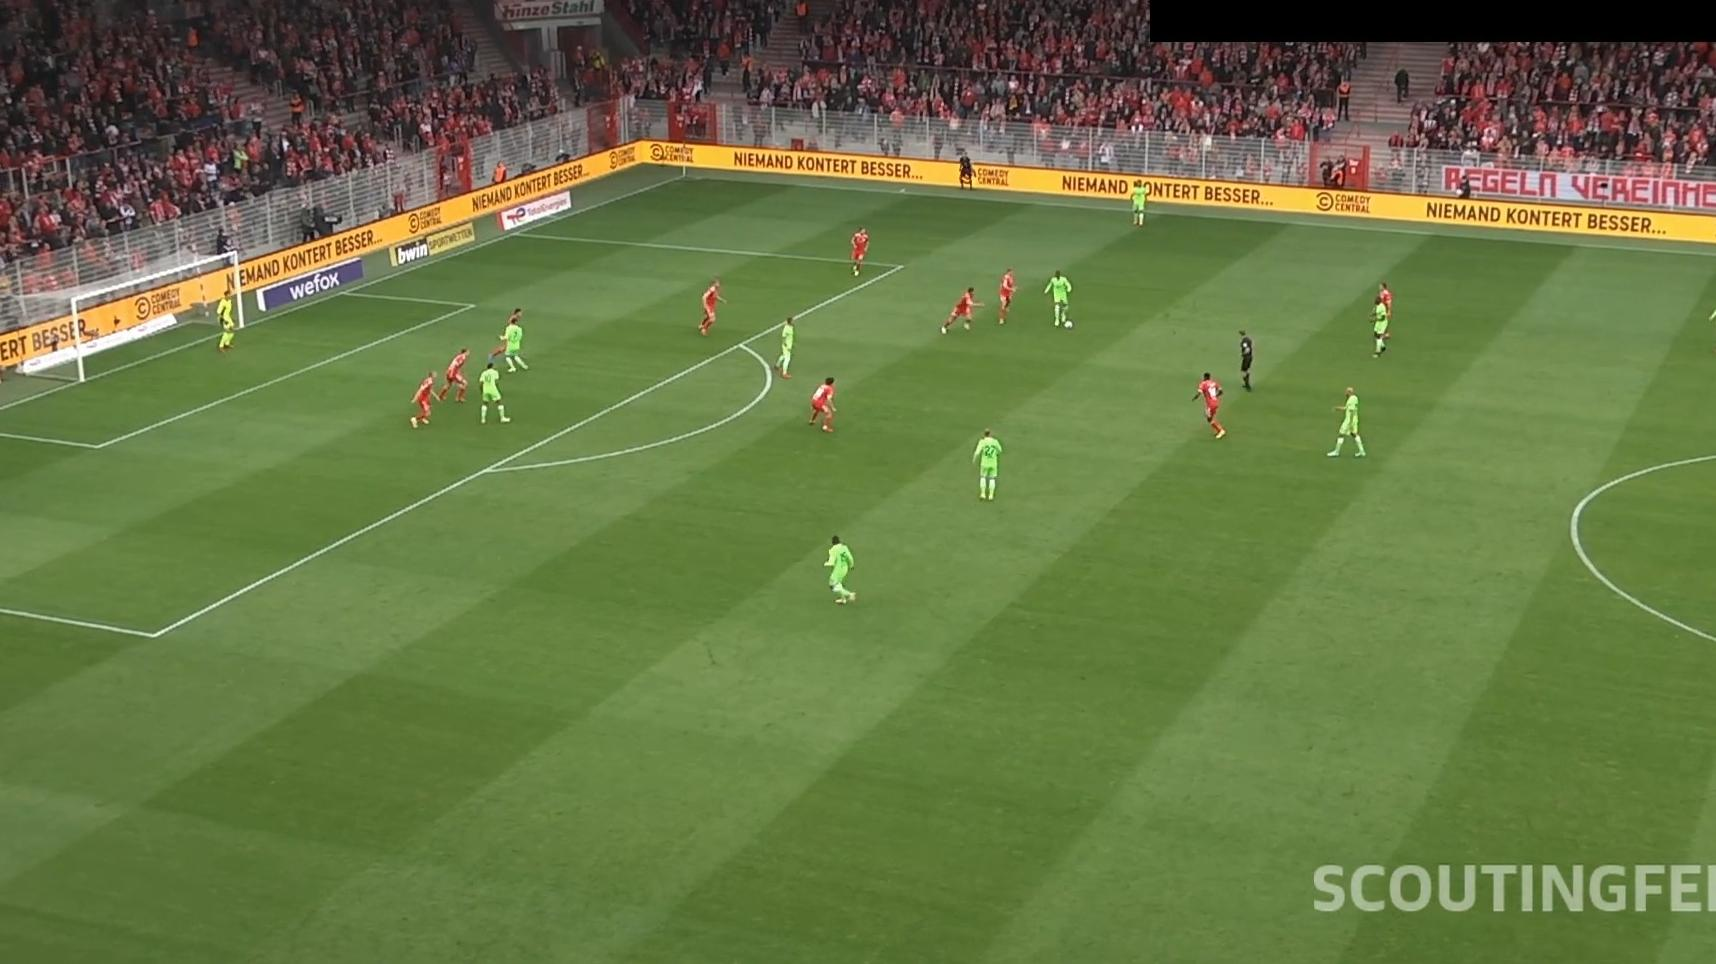ball: (1063, 318, 1076, 331)
